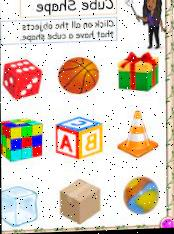cube: (54, 116, 102, 159), (58, 178, 100, 224), (1, 119, 42, 163), (2, 60, 41, 101)
